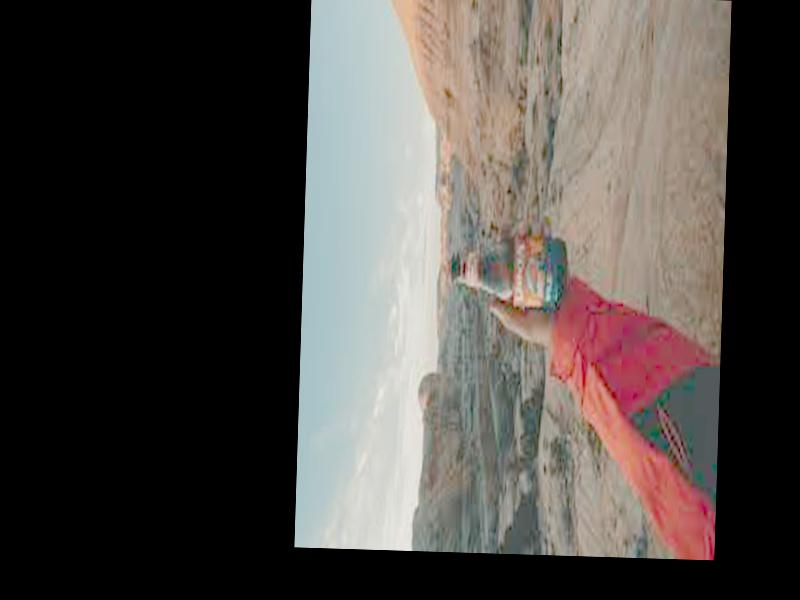Beer: (448, 230, 567, 316)
